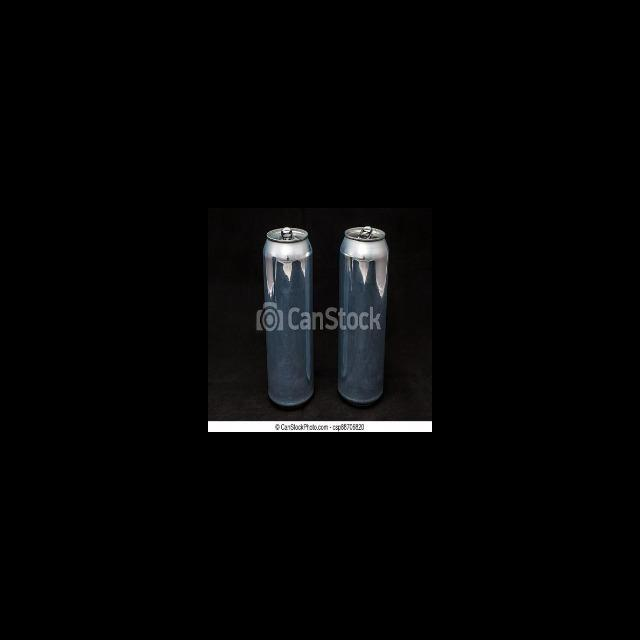metal: (333, 217, 401, 408), (258, 220, 319, 410)
